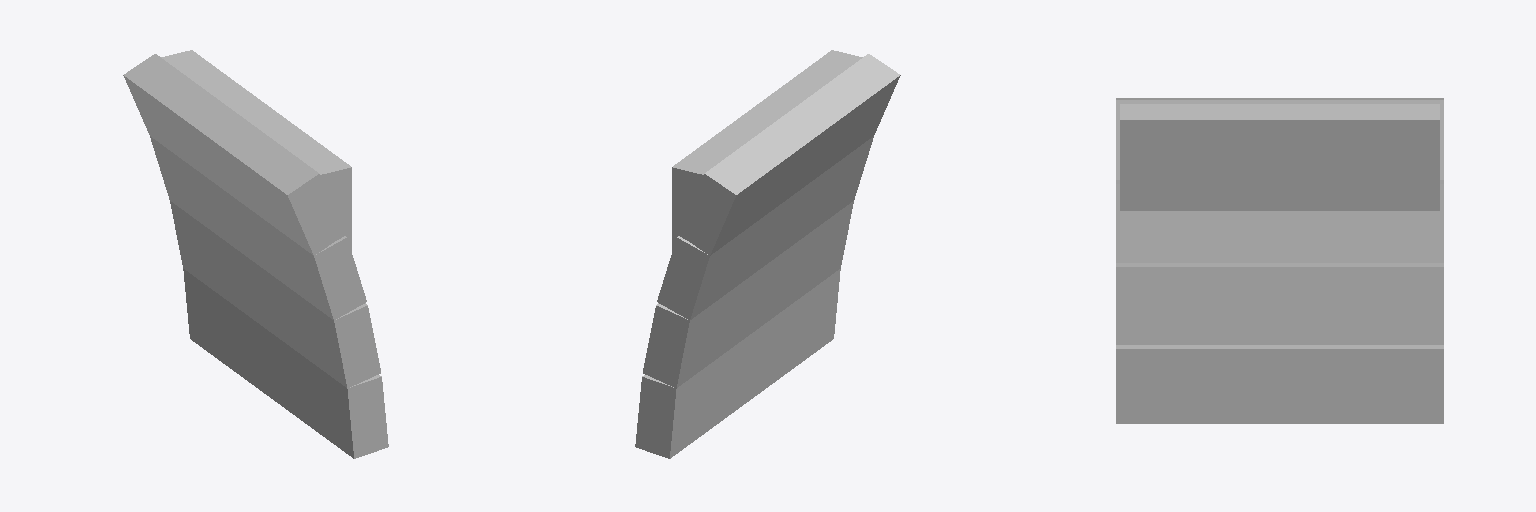
The model's file is sandstone_five_arch_bottom.obj.
3 renders of one model, left to right at view 1: azimuth 30°, elevation 25°; view 2: azimuth 150°, elevation 25°; view 3: azimuth 270°, elevation 25°, orthographic.
Parts seen in each view (by area): view 1: cube; view 2: cube; view 3: cube.
Boxes of the visible parts, <box> form: cube: <box>123,50,388,458</box>; cube: <box>635,50,900,458</box>; cube: <box>1116,98,1443,423</box>.
Size of the model in its own units: 0.3649 by 1.01 by 1.02.